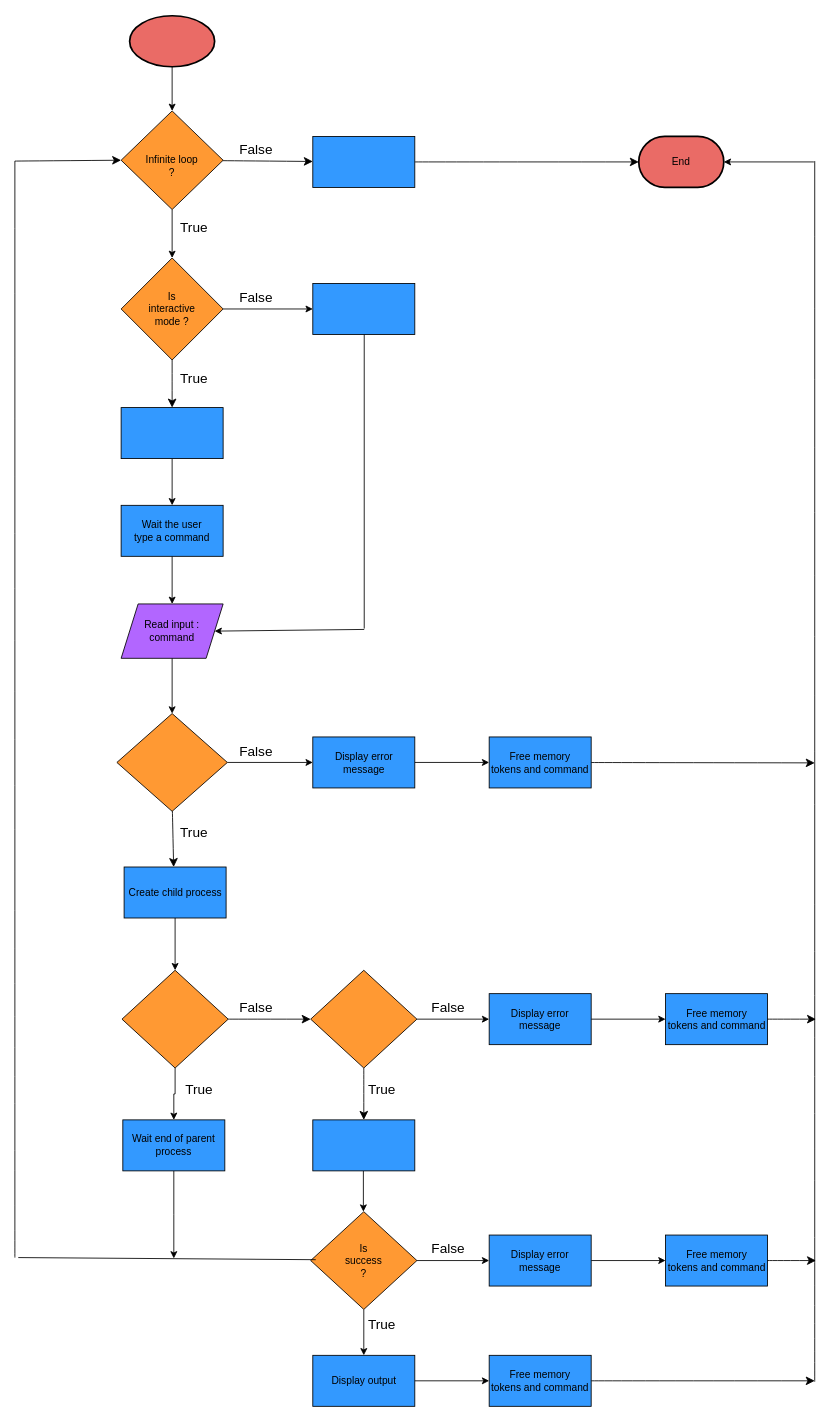
This 836x1421 diagram has some shape labels left out. Here are the shapes that lost their labels. From the top down, the box of each, then its label:
(128, 14, 215, 67): Start
(312, 136, 415, 187): Free memory command
(312, 283, 415, 334): Do not display prompt
(120, 407, 223, 459): Display prompt
(116, 713, 227, 811): Command exist ?
(121, 969, 228, 1068): Is parent process ?
(310, 969, 417, 1068): Is child process ?
(312, 1119, 415, 1171): Execute comand
